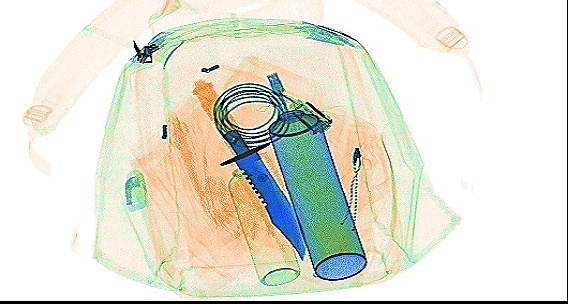knife: (189, 77, 306, 259)
pressure: (265, 88, 367, 281), (227, 146, 300, 285)
